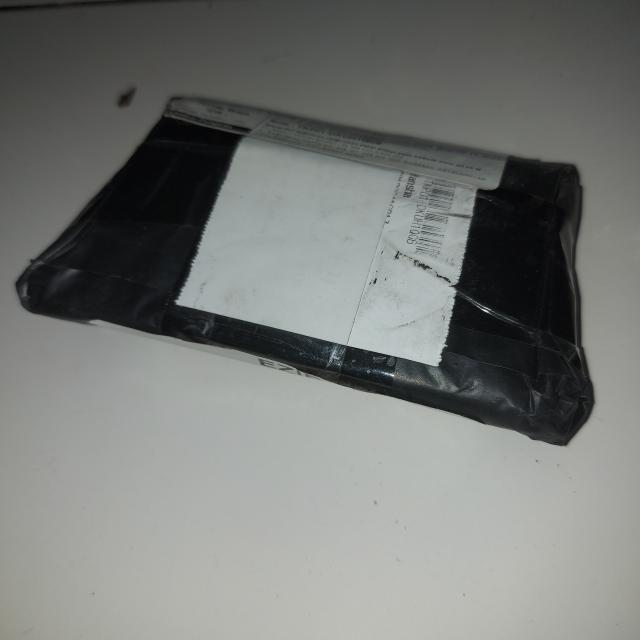Anorganik: (16, 92, 593, 450)
